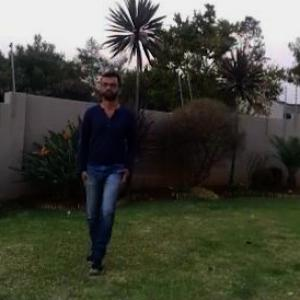follow: (68, 62, 139, 277)
